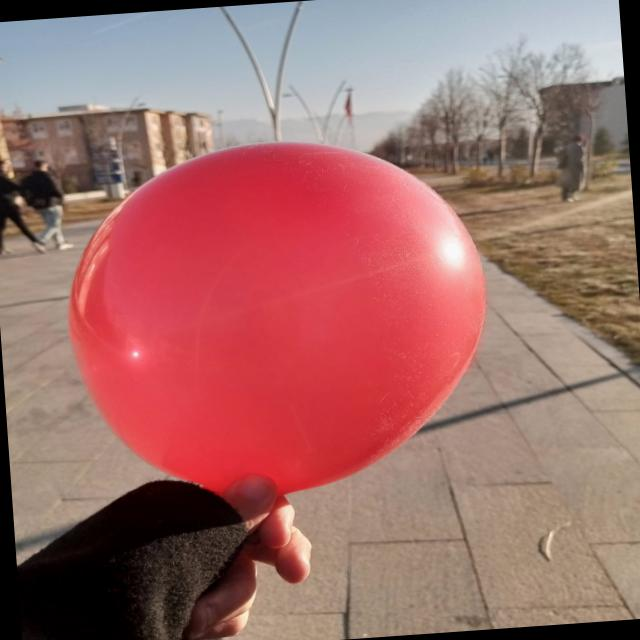balloon: (68, 142, 484, 493)
